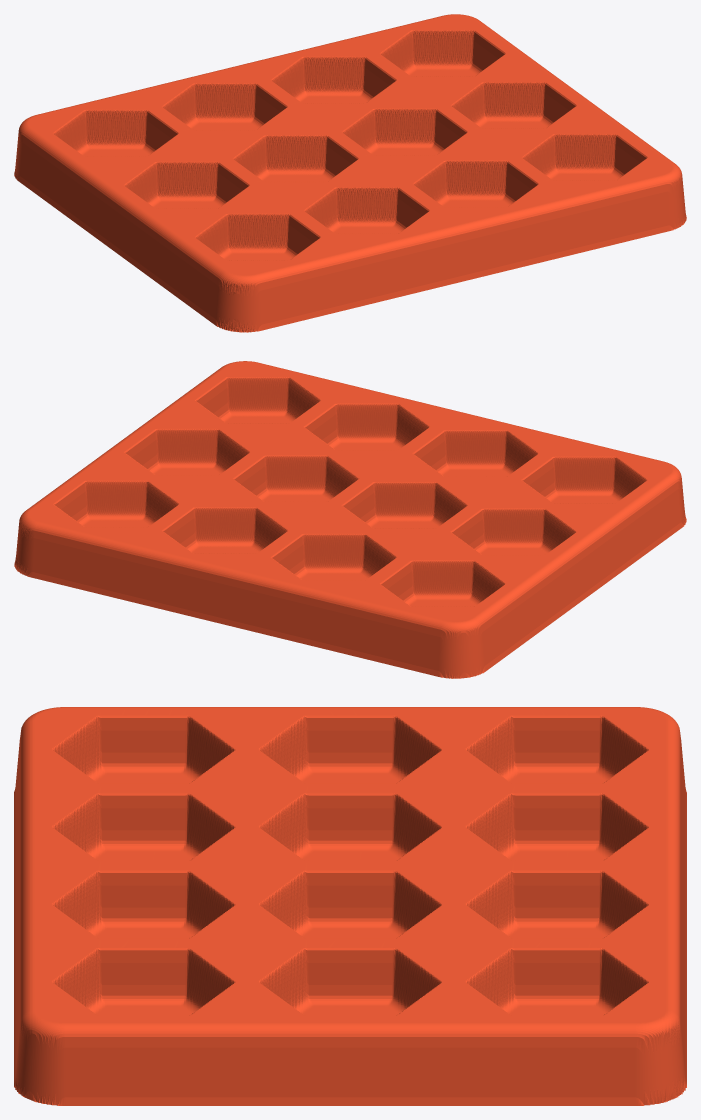
File: mold.glb
3 renders of one model, top to bottom at view 1: azimuth 30°, elevation 25°; view 2: azimuth 150°, elevation 25°; view 3: azimuth 270°, elevation 25°, orthographic. The views are drawn at different scales.
Parts seen in each view (by area): view 1: geometry_0; view 2: geometry_0; view 3: geometry_0.
Part boxes in pixels (x1,y1,x2,y2): geometry_0: [14, 14, 686, 332]; geometry_0: [14, 361, 686, 678]; geometry_0: [14, 707, 686, 1105].
Bounding box in the file's own units: 0.1392 × 0.0145 × 0.1192.
